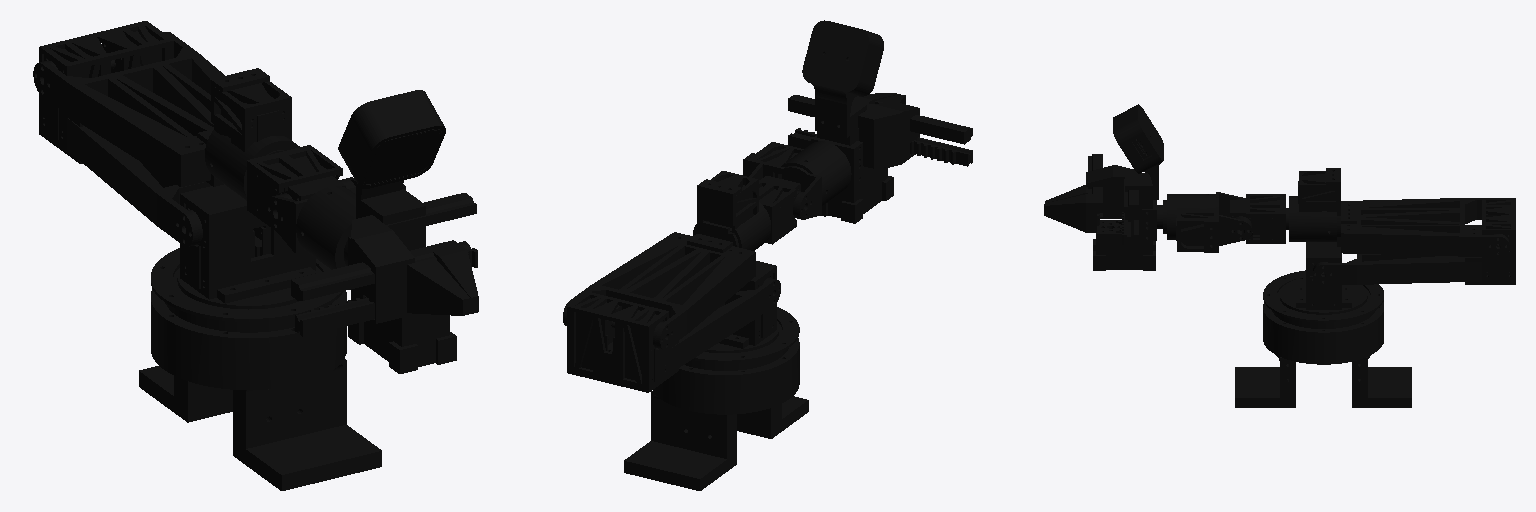
The robot description file, URDF, robot "MarkII_urdf":
<?xml version='1.0' encoding='utf-8'?>
<robot name="MarkII_urdf" xmlns:xacro="http://ros.org/wiki/xacro">
    <link name="base_link">
        <visual name="base_link_visual">
            <origin xyz="0.0 0.0 0.0" rpy="0.0 0.0 0.0" />
            <geometry>
                <mesh filename="package://simple_arm/meshes/base_link.stl" scale="0.001 0.001 0.001" />
            </geometry>
            <material name="Grey">
                <color rgba="0.1 0.1 0.1 1.0"/>
            </material>
        </visual>
        <collision name="base_link_collision">
            <origin xyz="0.0 0.0 0.0" rpy="0.0 0.0 0.0" />
            <geometry>
                <mesh filename="package://simple_arm/meshes/base_link.stl" scale="0.001 0.001 0.001" />
            </geometry>
        </collision>
    </link>
    <link name="link1">
        <inertial>
            <origin xyz="-0.0002704347594735834 5.857332049775781e-07 -0.018858068132557672" rpy="0.0 -0.0 0.0" />
            <mass value="0.1693636602695217" />
            <inertia ixx="9.137448780848672e-05" iyy="0.0001313693617072285" izz="9.559017464710466e-05" ixy="2.720487576872225e-09" iyz="-1.3245744038131203e-09" ixz="-4.5903464359968467e-07" />
        </inertial>
        <visual name="link1_visual">
            <origin xyz="9.999929548684338e-05 0.03250000019207488 0.09200000000000054" rpy="-3.1415926535897687 -7.208216521456998e-29 -1.5707963267948966" />
            <geometry>
                <mesh filename="package://simple_arm/meshes/link1.stl" scale="0.001 0.001 0.001" />
            </geometry>
            <material name="Grey">
                <color rgba="0.1 0.1 0.1 1.0"/>
            </material>
        </visual>
        <collision name="link1_collision">
            <origin xyz="9.999929548684338e-05 0.03250000019207488 0.09200000000000054" rpy="-3.1415926535897687 -7.208216521456998e-29 -1.5707963267948966" />
            <geometry>
                <mesh filename="package://simple_arm/meshes/link1.stl" scale="0.001 0.001 0.001" />
            </geometry>
        </collision>
    </link>
    <link name="link2">
        <inertial>
            <origin xyz="0.03760000011651115 0.0059319951687325555 -0.11925732977137538" rpy="7.88860905221012e-31 3.421138828918011e-49 -2.430865342914509e-63" />
            <mass value="1.7169294249777958" />
            <inertia ixx="0.0038562699005716536" iyy="0.0045067967357157665" izz="0.001231930246496139" ixy="1.5872719391665013e-16" iyz="0.00039574878190694356" ixz="7.6805583598243e-10" />
        </inertial>
        <visual name="link2_visual">
            <origin xyz="0.055865511020663394 -0.05559347310728084 0.17090147772739467" rpy="-3.1415926535897745 4.634311136164061e-15 -1.5707963267949183" />
            <geometry>
                <mesh filename="package://simple_arm/meshes/link2.stl" scale="0.001 0.001 0.001" />
            </geometry>
            <material name="Grey">
                <color rgba="0.1 0.1 0.1 1.0"/>
            </material>
        </visual>
        <collision name="link2_collision">
            <origin xyz="0.055865511020663394 -0.05559347310728084 0.17090147772739467" rpy="-3.1415926535897745 4.634311136164061e-15 -1.5707963267949183" />
            <geometry>
                <mesh filename="package://simple_arm/meshes/link2.stl" scale="0.001 0.001 0.001" />
            </geometry>
        </collision>
    </link>
    <link name="link3">
        <inertial>
            <origin xyz="0.03760663634504249 -0.0067660939590704315 -0.1156116487266119" rpy="-8.758115402030109e-47 -0.0 0.0" />
            <mass value="1.4797144091482912" />
            <inertia ixx="0.0038309475265955314" iyy="0.004170136098854015" izz="0.0009512994358775587" ixy="1.5677658128827873e-07" iyz="-0.00047433748121382917" ixz="2.834555275750896e-07" />
        </inertial>
        <visual name="link3_visual">
            <origin xyz="0.01933448921196167 0.05559347362881816 0.1709014775759369" rpy="3.1415926535897922 4.708572433932446e-16 1.5707963267949163" />
            <geometry>
                <mesh filename="package://simple_arm/meshes/link3.stl" scale="0.001 0.001 0.001" />
            </geometry>
            <material name="Grey">
                <color rgba="0.1 0.1 0.1 1.0"/>
            </material>
        </visual>
        <collision name="link3_collision">
            <origin xyz="0.01933448921196167 0.05559347362881816 0.1709014775759369" rpy="3.1415926535897922 4.708572433932446e-16 1.5707963267949163" />
            <geometry>
                <mesh filename="package://simple_arm/meshes/link3.stl" scale="0.001 0.001 0.001" />
            </geometry>
        </collision>
    </link>
    <link name="link4">
        <inertial>
            <origin xyz="-0.0006856444864441169 -0.025856823701627906 -2.6584211688884806e-07" rpy="0.0 -0.0 0.0" />
            <mass value="0.39283773638319275" />
            <inertia ixx="0.00010941578075797723" iyy="7.347508926037853e-05" izz="0.0001325327378877909" ixy="-1.7442449312230109e-06" iyz="-7.706476429498124e-11" ixz="1.5926628388861376e-09" />
        </inertial>
        <visual name="link4_visual">
            <origin xyz="-0.014999999876619503 -0.07860000031563046 0.03729999895692" rpy="-1.5707963267949088 1.5707963267948775 0" />
            <geometry>
                <mesh filename="package://simple_arm/meshes/link4.stl" scale="0.001 0.001 0.001" />
            </geometry>
            <material name="Grey">
                <color rgba="0.1 0.1 0.1 1.0"/>
            </material>
        </visual>
        <collision name="link4_collision">
            <origin xyz="-0.014999999876619503 -0.07860000031563046 0.03729999895692" rpy="-1.5707963267949088 1.5707963267948775 0" />
            <geometry>
                <mesh filename="package://simple_arm/meshes/link4.stl" scale="0.001 0.001 0.001" />
            </geometry>
        </collision>
    </link>
    <link name="link5">
        <inertial>
            <origin xyz="-0.01204269022263127 4.2064875323539755e-05 0.039175653835811335" rpy="0.0 -0.0 0.0" />
            <mass value="0.608125068740914" />
            <inertia ixx="0.00021837053677050897" iyy="0.0003469179926686751" izz="0.00024081655085987988" ixy="-7.322055258983418e-09" iyz="-6.787604473096183e-08" ixz="9.749665809387996e-06" />
        </inertial>
        <visual name="link5_visual">
            <origin xyz="-0.056699999876626564 -0.03725478487650168 -0.06389999968436498" rpy="7.746581154322007e-14 -4.565358189137846e-16 1.5707963267948781" />
            <geometry>
                <mesh filename="package://simple_arm/meshes/link5.stl" scale="0.001 0.001 0.001" />
            </geometry>
            <material name="Grey">
                <color rgba="0.1 0.1 0.1 1.0"/>
            </material>
        </visual>
        <collision name="link5_collision">
            <origin xyz="-0.056699999876626564 -0.03725478487650168 -0.06389999968436498" rpy="7.746581154322007e-14 -4.565358189137846e-16 1.5707963267948781" />
            <geometry>
                <mesh filename="package://simple_arm/meshes/link5.stl" scale="0.001 0.001 0.001" />
            </geometry>
        </collision>
    </link>
    <link name="link6">
        <inertial>
            <origin xyz="0.0006080068808218275 -0.024943614181073548 0.0228980159158138" rpy="0.0 -0.0 0.0" />
            <mass value="0.4063892862705231" />
            <inertia ixx="0.0009949238078908428" iyy="0.0009620882125333137" izz="0.0001293739180438374" ixy="-6.205679234966456e-07" iyz="-8.383963299279892e-05" ixz="-1.1902565677070848e-06" />
        </inertial>
        <visual name="link6_visual">
            <origin xyz="0.0006500001233803765 -0.033158311578043026 0.07161508819313206" rpy="2.0943950946213787 2.3888183975531057e-14 -2.029786426337192e-14" />
            <geometry>
                <mesh filename="package://simple_arm/meshes/link6.stl" scale="0.001 0.001 0.001" />
            </geometry>
            <material name="Grey">
                <color rgba="0.1 0.1 0.1 1.0"/>
            </material>
        </visual>
        <collision name="link6_collision">
            <origin xyz="0.0006500001233803765 -0.033158311578043026 0.07161508819313206" rpy="2.0943950946213787 2.3888183975531057e-14 -2.029786426337192e-14" />
            <geometry>
                <mesh filename="package://simple_arm/meshes/link6.stl" scale="0.001 0.001 0.001" />
            </geometry>
        </collision>
    </link>
    <link name="link7">
        <inertial>
            <origin xyz="-0.0013815558616599333 0.02387604371038002 -0.0013645395640511505" rpy="7.888609052210118e-31 7.888609052210118e-31 0.0" />
            <mass value="0.48075191159387803" />
            <inertia ixx="0.0003033448421816805" iyy="0.00033681236170874805" izz="0.00026092351890204246" ixy="6.005328959815351e-05" iyz="-2.1428284812280153e-05" ixz="3.5039219716827687e-05" />
        </inertial>
        <visual name="link7_visual">
            <origin xyz="0.029158762475574633 0.018856031219078046 -0.0017643185282382491" rpy="-0.5235987678264844 -1.5707963267948672 0" />
            <geometry>
                <mesh filename="package://simple_arm/meshes/link7.stl" scale="0.001 0.001 0.001" />
            </geometry>
            <material name="Grey">
                <color rgba="0.1 0.1 0.1 1.0"/>
            </material>
        </visual>
        <collision name="link7_collision">
            <origin xyz="0.029158762475574633 0.018856031219078046 -0.0017643185282382491" rpy="-0.5235987678264844 -1.5707963267948672 0" />
            <geometry>
                <mesh filename="package://simple_arm/meshes/link7.stl" scale="0.001 0.001 0.001" />
            </geometry>
        </collision>
    </link>
    <link name="link8">
        <inertial>
            <origin xyz="0.036071437879573356 -0.018378160326630137 -0.030699742058770334" rpy="3.944304526105059e-31 7.888609052210118e-31 -5.551115123125783e-17" />
            <mass value="0.2562251290131406" />
            <inertia ixx="0.00028109096751540406" iyy="0.00027154537408483753" izz="5.203384545490046e-05" ixy="-3.9514768753589474e-06" iyz="-4.019479975124516e-05" ixz="-4.704225929575951e-06" />
        </inertial>
        <visual name="link8_visual">
            <origin xyz="0.040455652057477066 -0.009090003514222431 -0.03906864449898206" rpy="-2.094395094621378 1.5707963267948704 0" />
            <geometry>
                <mesh filename="package://simple_arm/meshes/link8.stl" scale="0.001 0.001 0.001" />
            </geometry>
            <material name="Grey">
                <color rgba="0.1 0.1 0.1 1.0"/>
            </material>
        </visual>
        <collision name="link8_collision">
            <origin xyz="0.040455652057477066 -0.009090003514222431 -0.03906864449898206" rpy="-2.094395094621378 1.5707963267948704 0" />
            <geometry>
                <mesh filename="package://simple_arm/meshes/link8.stl" scale="0.001 0.001 0.001" />
            </geometry>
        </collision>
    </link>
    <link name="gripper" />
    <joint name="base_link_Revolute-1" type="continuous">
        <origin xyz="0.0325 -0.0001 0.092" rpy="3.1415926535897927 -0.0 0.0" />
        <parent link="base_link" />
        <child link="link1" />
        <axis xyz="0.0 0.0 1.0" />
    </joint>
    <joint name="link1_Revolute-3" type="revolute">
        <origin xyz="-0.038 2.1909557501587075e-17 -0.04120000000000001" rpy="-1.5707963267949014 -1.3759121115959062e-48 2.5866422738807517e-33" />
        <parent link="link1" />
        <child link="link2" />
        <axis xyz="-1 0.0 0.0" />
        <limit lower="-3.490659" upper="0.349066" effort="1000000.0" velocity="1000000.0" />
    </joint>
    <joint name="link2_Revolute-4" type="revolute">
        <origin xyz="-4.6074255521944e-16 0.028200000000000856 -0.15829999999999986" rpy="-3.141592653589788 -6.3083005994942144e-30 -3.3964013748145005e-44" />
        <parent link="link2" />
        <child link="link3" />
        <axis xyz="-1 0.0 0.0" />
        <limit lower="0.0" upper="3.403392" effort="1000000.0" velocity="1000000.0" />
    </joint>
    <joint name="link3_Revolute-5" type="continuous">
        <origin xyz="0.0376 -0.008000000000000007 -0.18960000000000002" rpy="1.5707963267948966 -6.310887241768096e-30 -3.971572354158615e-60" />
        <parent link="link3" />
        <child link="link4" />
        <axis xyz="0.0 1.0 0.0" />
    </joint>
    <joint name="link4_Revolute-6" type="revolute">
        <origin xyz="0.0171 -0.04360000000000001 0.0" rpy="1.5707963267948966 1.1598146964900797e-46 -3.1554436208840472e-30" />
        <parent link="link4" />
        <child link="link5" />
        <axis xyz="1.0 0.0 0.0" />
        <limit lower="-1.658063" upper="1.658063" effort="1000000.0" velocity="1000000.0" />
    </joint>
    <joint name="link5_Revolute-7" type="continuous">
        <origin xyz="-0.021700000000000014 4.521999999994364e-05 0.0706" rpy="-1.570796326794897 3.1554436208840472e-30 4.598010586065825e-46" />
        <parent link="link5" />
        <child link="link6" />
        <axis xyz="0.0 1.0 0.0" />
    </joint>
    <joint name="link6_Slider-8" type="prismatic">
        <origin xyz="-0.012099999999999944 -0.034000140000000005 0.03283129000000003" rpy="-1.5707963267948966 0.5235987755983036 1.5707963267949092" />
        <parent link="link6" />
        <child link="link7" />
        <axis xyz="0.0 0.0 1.0" />
        <limit lower="-0.002" upper="0.045" effort="1000000.0" velocity="1000000.0" />
    </joint>
    <joint name="link7_Slider-9" type="prismatic">
        <origin xyz="0.015700000000000058 -0.034000140000000005 0.03283129000000003" rpy="-1.5707963267948966 1.0471975511965943 -1.5707963267949128" />
        <parent link="link6" />
        <child link="link8" />
        <axis xyz="0.0 0.0 1.0" />
        <limit lower="0.045" upper="-0.002" effort="1000000.0" velocity="1000000.0" />
        <mimic joint="link6_Slider-8" multiplier="1" offset="0" />
    </joint>
    <joint name="link6_to_gripper" type="fixed">
        <parent link="link6" />
        <child link="gripper" />
        <origin xyz="0 0 0.05" rpy="0 0 0" />  <!-- Adjust XYZ to your gripper tip position (e.g., 0.05m forward) -->
    </joint>
 
    
</robot>

--- What the picture shows (computed from the rendered views, not written in the file) ---
Views: 3 orthographic renders of the robot side by side, from view 1: azimuth 30°, elevation 25°; view 2: azimuth 150°, elevation 25°; view 3: azimuth 270°, elevation 25°.
Model MarkII_urdf with 10 links and 9 joints (3 revolute, 3 continuous, 2 prismatic, 1 fixed), rooted at base_link, posed all joints at 0.
Links seen in each view (by area): view 1: base_link, link3, link6, link2, link1, link7, link8, link5, link4; view 2: base_link, link3, link2, link6, link5, link7, link8, link1, link4; view 3: base_link, link3, link2, link6, link5, link1, link7, link4, link8.
Boxes of the visible links, left/top/right/bottom form: base_link: left=139, top=248, right=381, bottom=490; link3: left=33, top=32, right=299, bottom=200; link6: left=338, top=90, right=456, bottom=373; link2: left=39, top=21, right=210, bottom=246; link1: left=177, top=184, right=319, bottom=309; link7: left=351, top=193, right=477, bottom=323; link8: left=291, top=240, right=478, bottom=336; link5: left=267, top=177, right=421, bottom=269; link4: left=247, top=145, right=345, bottom=231; base_link: left=624, top=307, right=808, bottom=490; link3: left=563, top=171, right=770, bottom=349; link2: left=567, top=279, right=780, bottom=392; link6: left=802, top=20, right=893, bottom=223; link5: left=743, top=141, right=851, bottom=219; link7: left=788, top=94, right=919, bottom=168; link8: left=853, top=93, right=972, bottom=166; link1: left=705, top=261, right=778, bottom=352; link4: left=759, top=176, right=800, bottom=244; base_link: left=1235, top=270, right=1411, bottom=407; link3: left=1289, top=168, right=1509, bottom=256; link2: left=1313, top=198, right=1515, bottom=284; link6: left=1093, top=104, right=1163, bottom=270; link5: left=1163, top=192, right=1251, bottom=252; link1: left=1280, top=242, right=1367, bottom=314; link7: left=1045, top=165, right=1138, bottom=244; link4: left=1230, top=194, right=1288, bottom=243; link8: left=1044, top=154, right=1102, bottom=232.
Bounding box of the posed robot: 0.1434 × 0.4263 × 0.2748 m (x, y, z).
Meshes: 9 distinct files referenced, 9 mesh visuals loaded (9 binary STL).